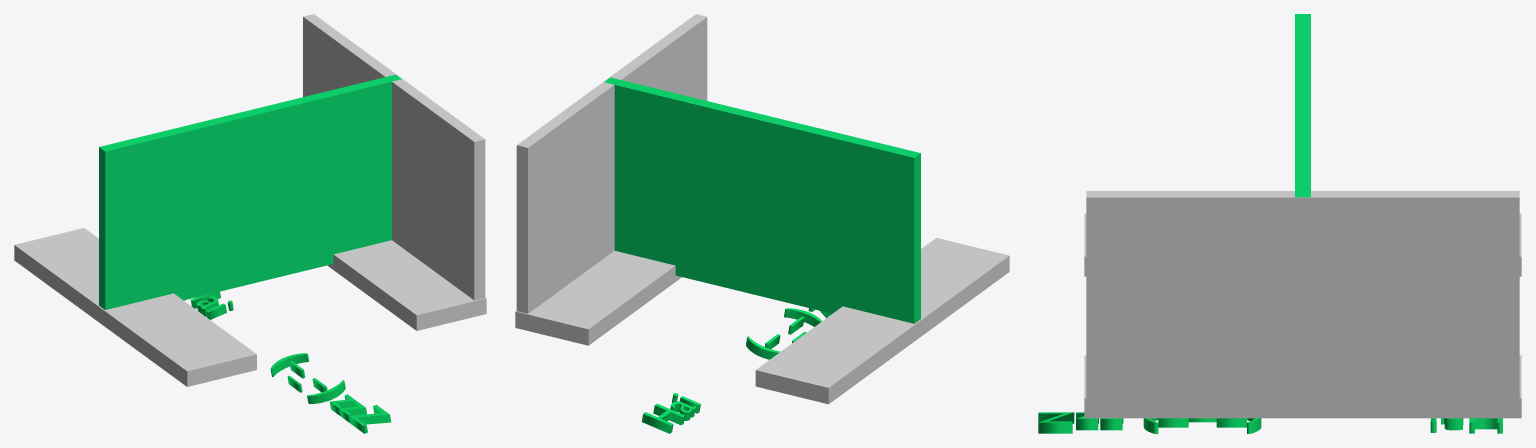
File: level5.glb
3 views of the same model, side by side, from view 1: azimuth 30°, elevation 25°; view 2: azimuth 150°, elevation 25°; view 3: azimuth 270°, elevation 25° (orthographic). The views are drawn at different scales.
Parts seen in each view (by area): view 1: Cube.001, Cube.002, Cube.003, Cube, Text_X; view 2: Cube.001, Cube.002, Cube.003, Cube, Text_X; view 3: Cube.002, Cube, Text_X, Cube.001.
Part boxes in pixels (box(x1,y1,x2,y2)): Cube.001: box(99, 74, 401, 309); Cube.002: box(303, 14, 485, 300); Cube.003: box(14, 228, 256, 386); Cube: box(327, 240, 486, 330); Text_X: box(184, 291, 391, 433); Cube.001: box(604, 77, 920, 323); Cube.002: box(516, 14, 707, 313); Cube.003: box(755, 238, 1009, 404); Cube: box(515, 250, 681, 345); Text_X: box(641, 308, 832, 433); Cube.002: box(1086, 191, 1519, 398); Cube: box(1084, 355, 1521, 418); Text_X: box(1038, 412, 1502, 433); Cube.001: box(1295, 14, 1310, 197).
Size of the model in its own units: 30 by 23.78 by 33.15.
